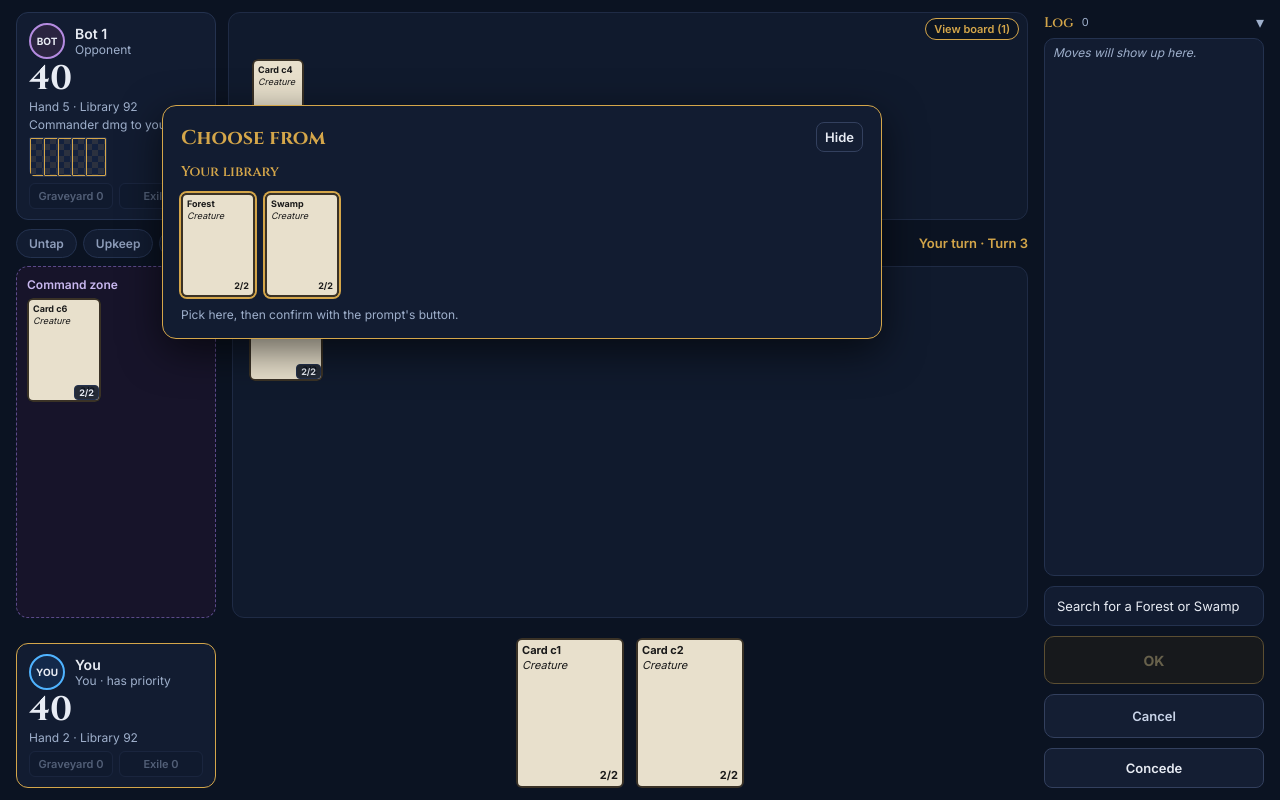
Test: a selection over cards only in your visibleLibrary opens "Choose from" and clicks send selectCard
expect the heading "Your library" is shown: met, box [181,162,279,181]
What coordinates should you click on to do the following:
click the button "Forest Creature 2/2"
I would click on:
 (218, 245)
Its box is [181,193,255,297].
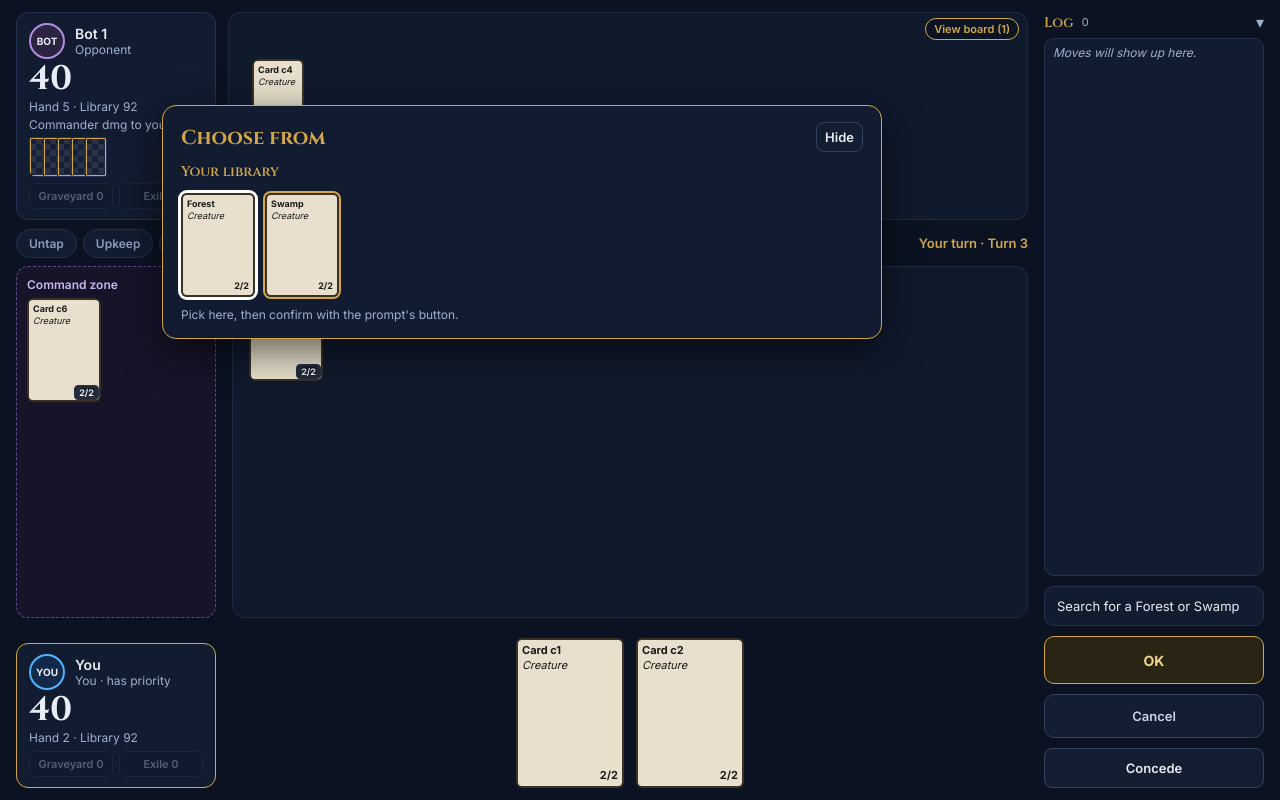
What coordinates should you click on to do the following:
click the button "OK"
I would click on:
 (1154, 660)
Its box is [1044,636,1264,684].
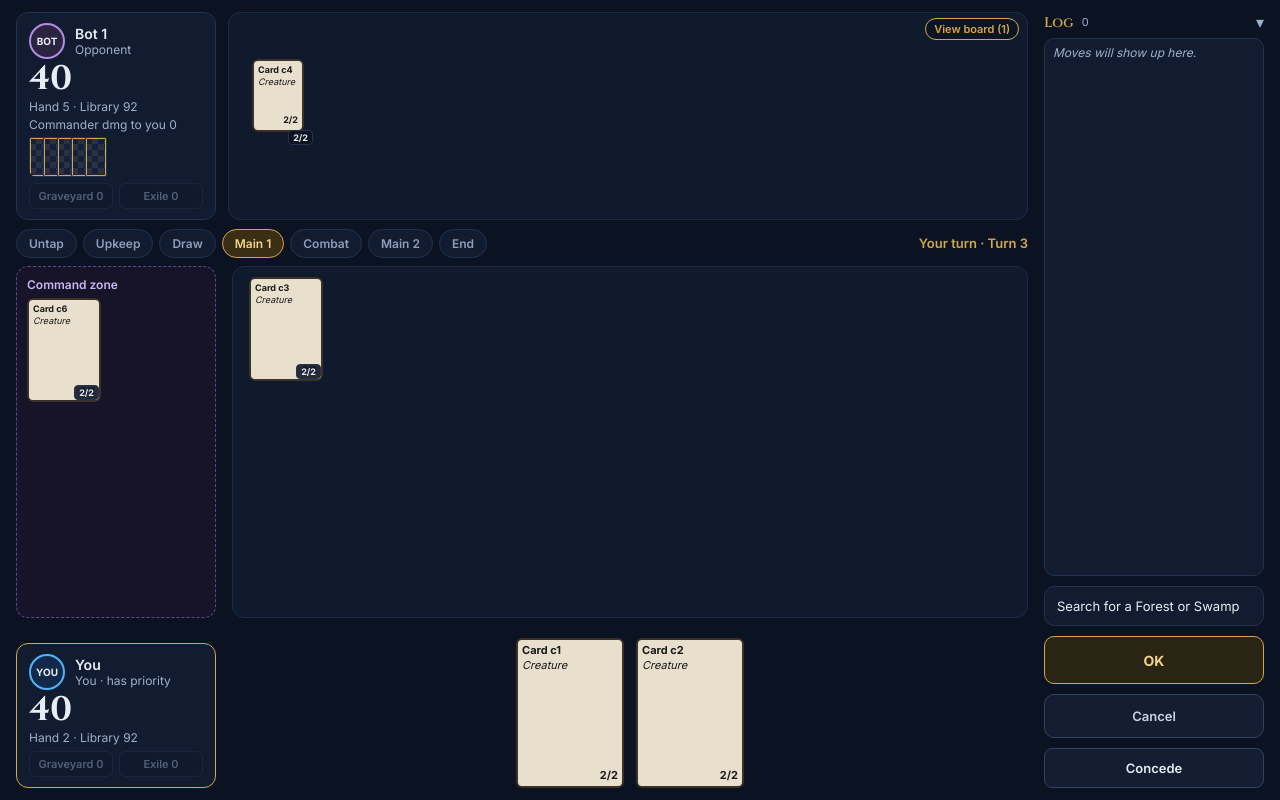
expect the heading "Choose from" is gone: met
